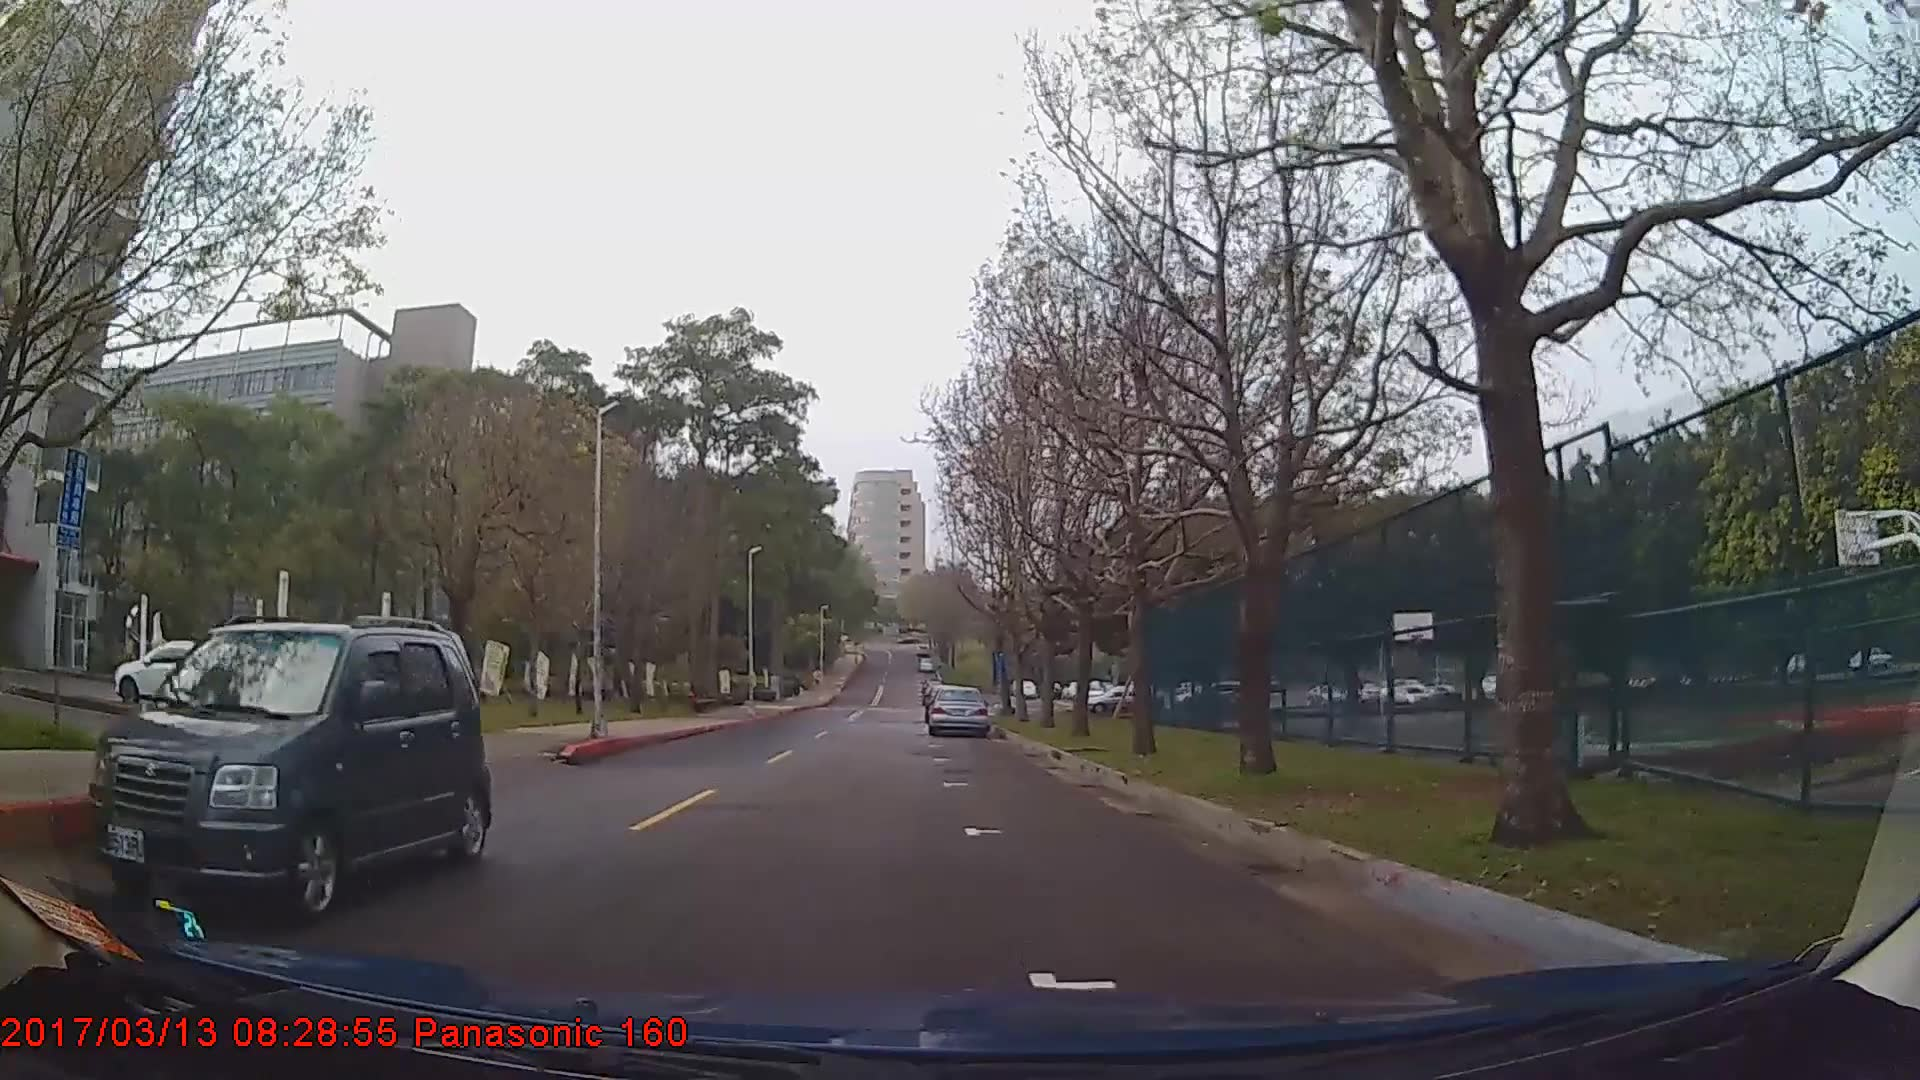vehicle: (84, 622, 491, 916), (112, 638, 249, 703), (926, 686, 992, 741)
